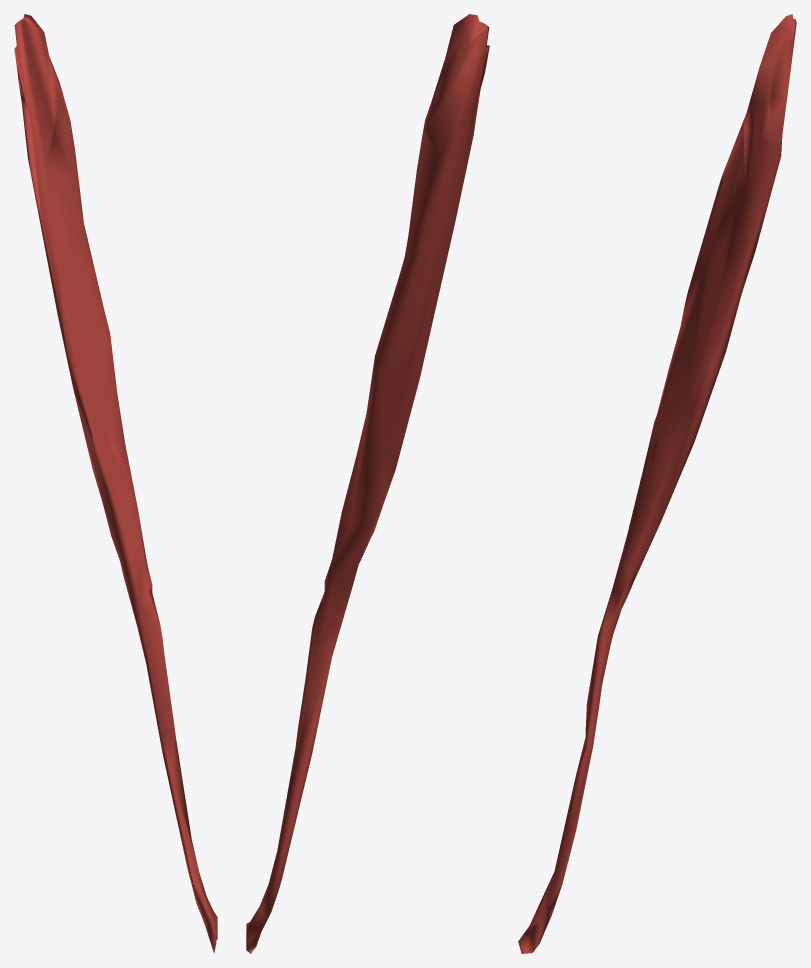
Rendered from musculos-ulnar-head-of-extensor-carpi-ulnaris-l.glb.
3 renders of one model, left to right at view 1: azimuth 30°, elevation 25°; view 2: azimuth 210°, elevation 25°; view 3: azimuth 270°, elevation 25°, orthographic. The views are drawn at different scales.
Parts seen in each view (by area): view 1: Ulnar head of extensor carpi ulnaris.l; view 2: Ulnar head of extensor carpi ulnaris.l; view 3: Ulnar head of extensor carpi ulnaris.l.
Part boxes in pixels (left/top/right/bottom): Ulnar head of extensor carpi ulnaris.l: left=14, top=14, right=217, bottom=953; Ulnar head of extensor carpi ulnaris.l: left=246, top=14, right=489, bottom=953; Ulnar head of extensor carpi ulnaris.l: left=518, top=14, right=796, bottom=953.
Size of the model in its own units: 0.0231 by 0.2049 by 0.057.
